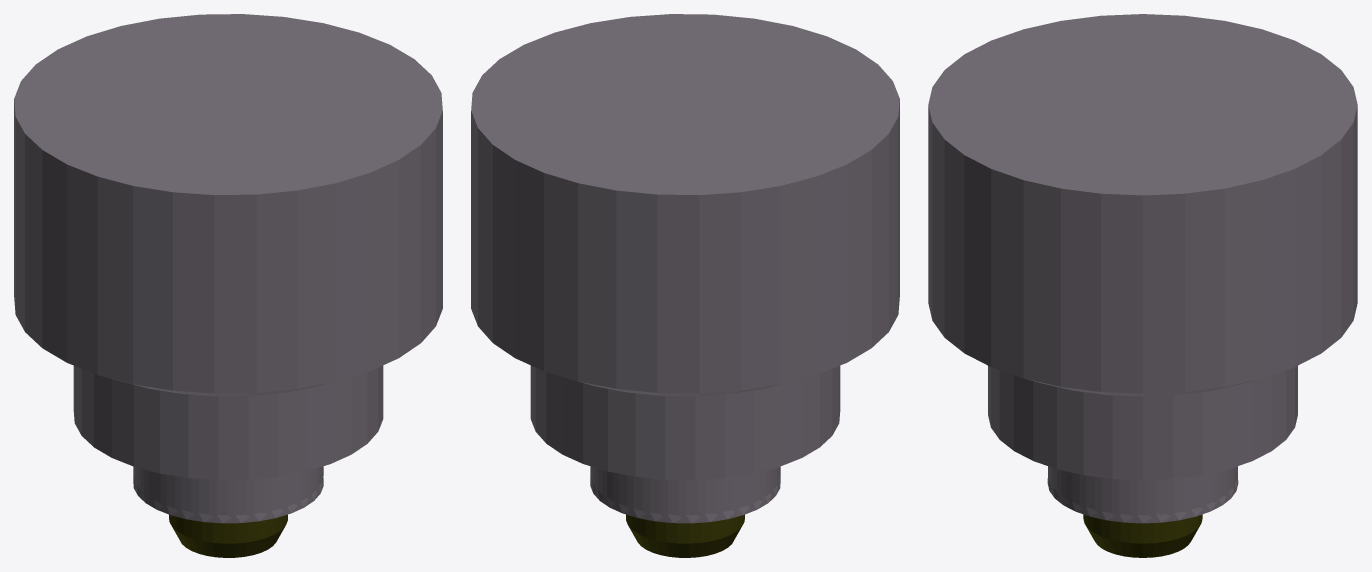
The model's file is yellow_bottom.fbx.
3 views of the same model, side by side, from view 1: azimuth 30°, elevation 25°; view 2: azimuth 150°, elevation 25°; view 3: azimuth 270°, elevation 25° (orthographic).
Visible parts, largest first — view 1: leg.top, leg.mid, leg.bottom, point; view 2: leg.top, leg.mid, leg.bottom, point; view 3: leg.top, leg.mid, leg.bottom, point.
Boxes of the visible parts, x1,y1,x2,y2 form: leg.top: (14,14,442,396); leg.mid: (73,365,383,479); leg.bottom: (133,466,323,523); point: (169,514,287,557); leg.top: (471,14,899,396); leg.mid: (530,365,840,479); leg.bottom: (590,466,780,523); point: (626,514,744,557); leg.top: (928,14,1357,396); leg.mid: (988,366,1297,480); leg.bottom: (1047,466,1238,523); point: (1083,514,1202,557).
Bounding box in the file's own units: 360 × 400 × 360.
